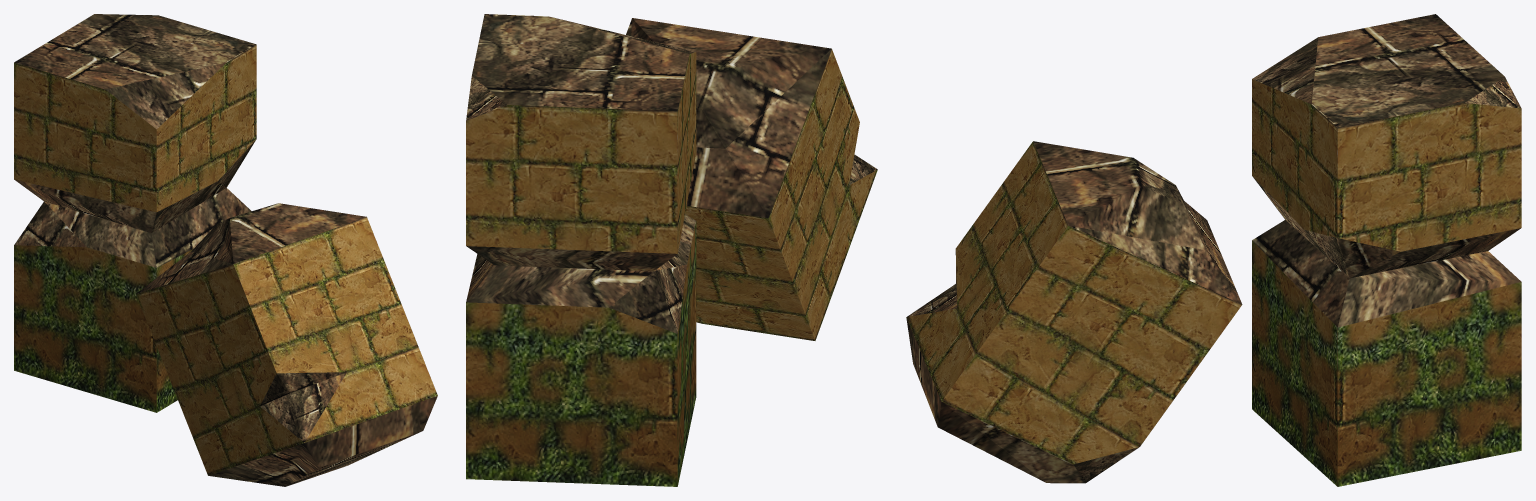
Rendered from Ruins03.FBX.
The picture shows the model from 3 angles, left to right: view 1: azimuth 30°, elevation 25°; view 2: azimuth 150°, elevation 25°; view 3: azimuth 270°, elevation 25°; orthographic projection. The views are drawn at different scales.
Visible parts, largest first — view 1: Pillar (×2); view 2: Pillar (×2); view 3: Pillar (×2).
Part boxes in pixels (x1,y1,x2,y2): Pillar (×2): [14, 14, 437, 486]; Pillar (×2): [466, 14, 877, 486]; Pillar (×2): [906, 14, 1521, 486].
Bounding box in the file's own units: 209 × 303 × 452.
